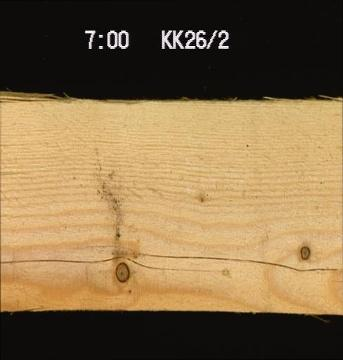dry_knot: (112, 259, 130, 283), (297, 243, 311, 261)
small_knot: (191, 188, 212, 209)
split: (0, 250, 222, 277), (143, 250, 339, 274)
